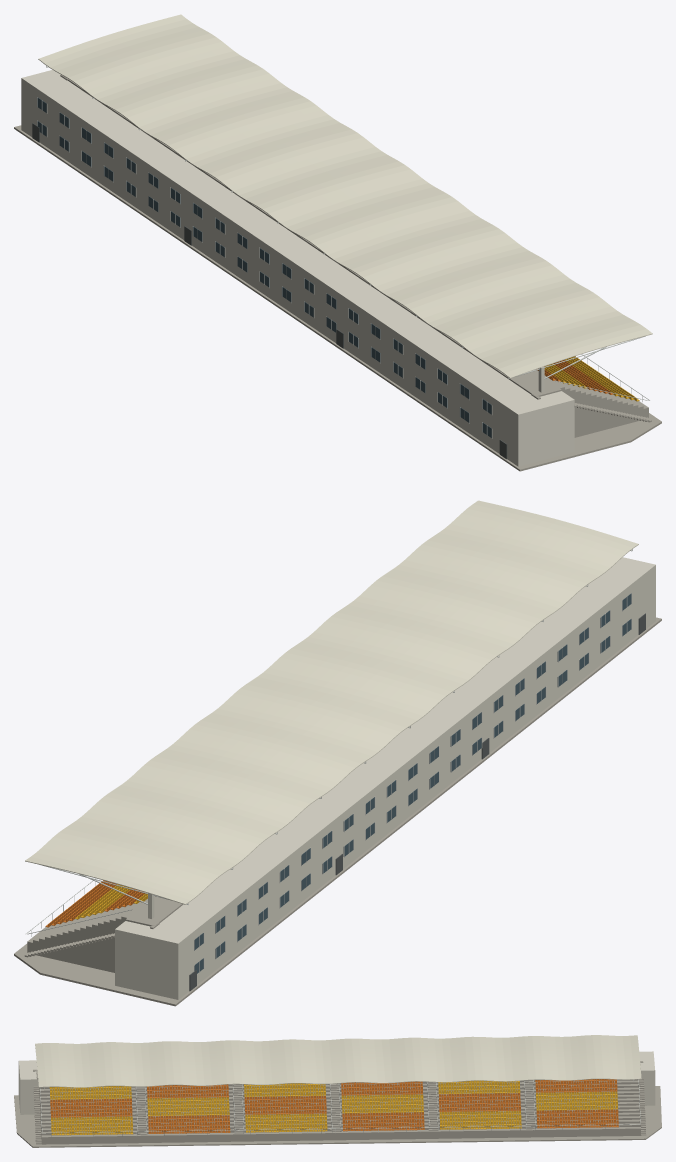
Rendered from SEU_building_patch_v20.glb.
The picture shows the model from 3 angles, top to bottom: view 1: azimuth 30°, elevation 25°; view 2: azimuth 150°, elevation 25°; view 3: azimuth 270°, elevation 25°; orthographic projection. The views are drawn at different scales.
Visible parts, largest first — view 1: SEU_B_OSMWAY_1056927532_CANOPY, SEU_B_OSMWAY_1056927532_SERVICE_BODY, SEU_B_OSMWAY_1056927532_WEST_WINDOWS, SEU_B_OSMWAY_1056927532_FOUNDATION, SEU_B_OSMWAY_1056927532_SEATING_TREADS, SEU_B_OSMWAY_1056927532_WINDOW_FRAMES, SEU_B_OSMWAY_1056927532_UPPER_CONCOURSE, SEU_B_OSMWAY_1056927532_SEATS_YELLOW; view 2: SEU_B_OSMWAY_1056927532_CANOPY, SEU_B_OSMWAY_1056927532_SERVICE_BODY, SEU_B_OSMWAY_1056927532_FOUNDATION, SEU_B_OSMWAY_1056927532_WEST_WINDOWS, SEU_B_OSMWAY_1056927532_SEATING_TREADS, SEU_B_OSMWAY_1056927532_WINDOW_FRAMES, SEU_B_OSMWAY_1056927532_SEATS_ORANGE, SEU_B_OSMWAY_1056927532_UPPER_CONCOURSE; view 3: SEU_B_OSMWAY_1056927532_CANOPY, SEU_B_OSMWAY_1056927532_SEATING_TREADS, SEU_B_OSMWAY_1056927532_SEATS_ORANGE, SEU_B_OSMWAY_1056927532_SEATS_YELLOW, SEU_B_OSMWAY_1056927532_FOUNDATION, SEU_B_OSMWAY_1056927532_AISLE_STEPS, SEU_B_OSMWAY_1056927532_SERVICE_BODY, SEU_B_OSMWAY_1056927532_FRONT_RAIL, SEU_B_OSMWAY_1056927532_END_ACCESS_STAIRS, SEU_B_OSMWAY_1056927532_HANDRAILS.
Boxes of the visible parts, x1,y1,x2,y2 form: SEU_B_OSMWAY_1056927532_CANOPY: (38,14,652,378); SEU_B_OSMWAY_1056927532_SERVICE_BODY: (21,70,574,466); SEU_B_OSMWAY_1056927532_WEST_WINDOWS: (37,97,491,437); SEU_B_OSMWAY_1056927532_FOUNDATION: (14,125,661,471); SEU_B_OSMWAY_1056927532_SEATING_TREADS: (534,369,648,437); SEU_B_OSMWAY_1056927532_WINDOW_FRAMES: (37,97,492,438); SEU_B_OSMWAY_1056927532_UPPER_CONCOURSE: (63,76,561,396); SEU_B_OSMWAY_1056927532_SEATS_YELLOW: (544,356,639,401); SEU_B_OSMWAY_1056927532_CANOPY: (25,500,638,904); SEU_B_OSMWAY_1056927532_SERVICE_BODY: (115,557,655,999); SEU_B_OSMWAY_1056927532_FOUNDATION: (14,617,661,1006); SEU_B_OSMWAY_1056927532_WEST_WINDOWS: (194,593,631,973); SEU_B_OSMWAY_1056927532_SEATING_TREADS: (27,896,154,972); SEU_B_OSMWAY_1056927532_WINDOW_FRAMES: (194,593,631,972); SEU_B_OSMWAY_1056927532_SEATS_ORANGE: (45,880,144,927); SEU_B_OSMWAY_1056927532_UPPER_CONCOURSE: (125,896,183,926); SEU_B_OSMWAY_1056927532_CANOPY: (35,1035,641,1087); SEU_B_OSMWAY_1056927532_SEATING_TREADS: (39,1079,640,1144); SEU_B_OSMWAY_1056927532_SEATS_ORANGE: (50,1079,618,1133); SEU_B_OSMWAY_1056927532_SEATS_YELLOW: (49,1080,617,1135); SEU_B_OSMWAY_1056927532_FOUNDATION: (14,1086,661,1147); SEU_B_OSMWAY_1056927532_AISLE_STEPS: (135,1080,535,1135); SEU_B_OSMWAY_1056927532_SERVICE_BODY: (18,1051,655,1114); SEU_B_OSMWAY_1056927532_FRONT_RAIL: (42,1124,640,1137); SEU_B_OSMWAY_1056927532_END_ACCESS_STAIRS: (33,1061,646,1144); SEU_B_OSMWAY_1056927532_HANDRAILS: (40,1079,640,1134).
Bounding box in the file's own units: 30.36 × 13.92 × 137.
